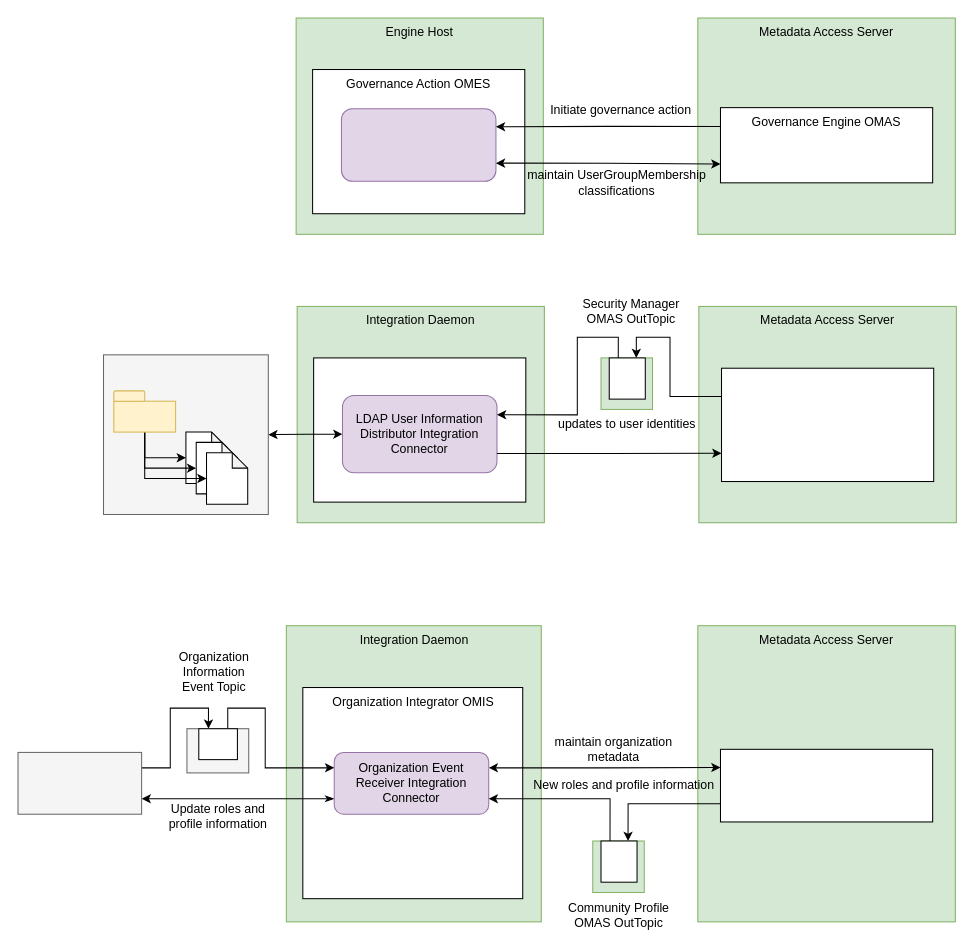
Some shapes in this 974 by 949 pixel diagram are drawn without their labels. Each missing label, with the box of its shape:
Community Profile OMAS: (719, 748, 933, 822)
LDAP User Directory: (102, 354, 268, 514)
Organization Information Manager: (17, 751, 142, 814)
Security Integrator OMIS: (313, 357, 526, 502)
Security Manager OMAS: (720, 367, 934, 482)
User Group Manager Governance Action: (340, 108, 496, 181)
